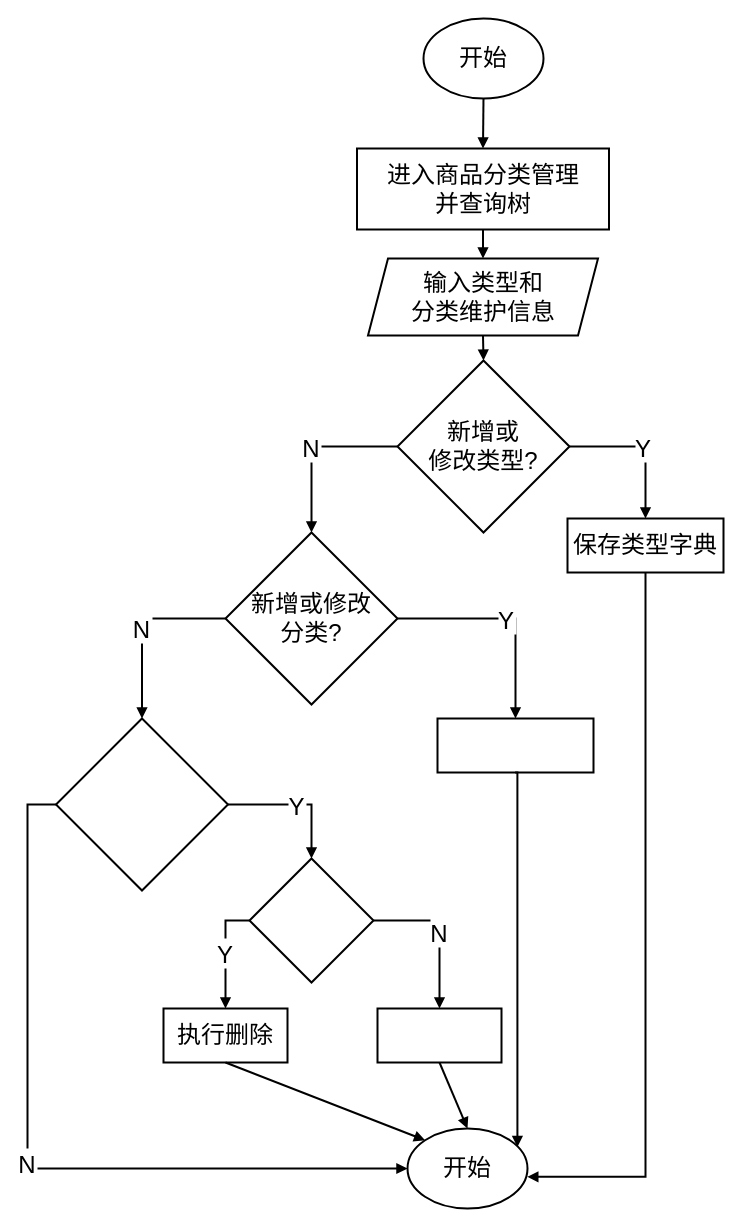
The diagram is 741 pixels wide and 1226 high, and some of its shapes have lost their labels. Here are the shapes that lost their labels. From the top down, the centre of each, then its label:
At point (515, 745): "保存分类字典".
At point (141, 804): "删除类型或 分类?".
At point (311, 920): "店长权限?".
At point (439, 1035): "拒绝删除".
